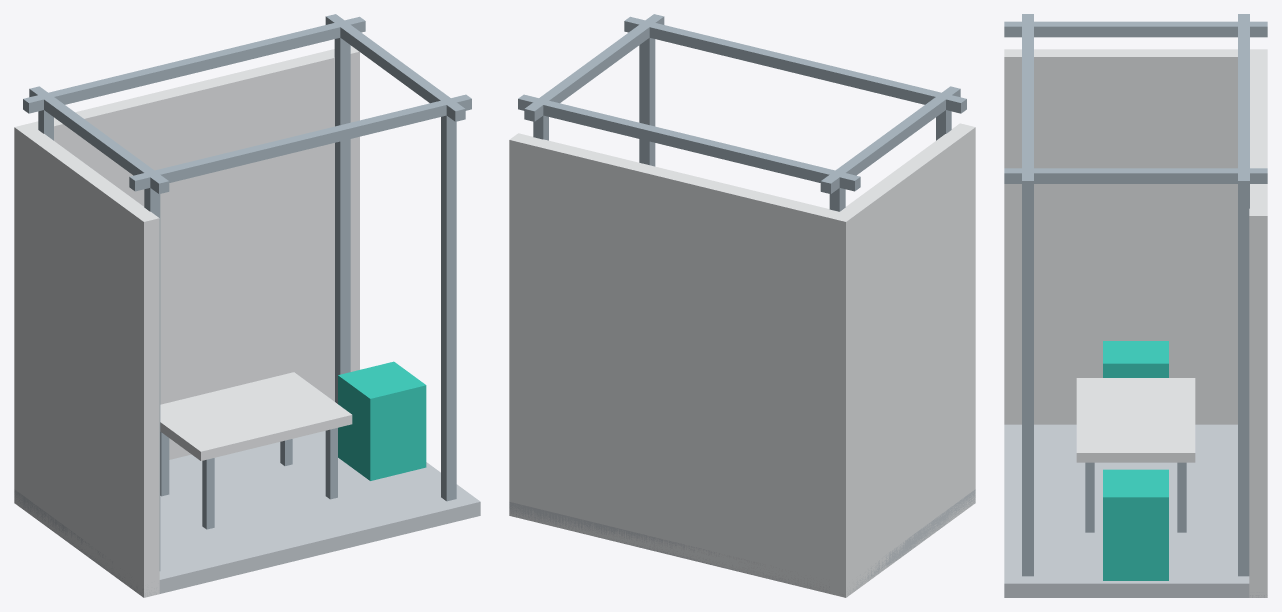
The picture shows the model from 3 angles, left to right: view 1: azimuth 30°, elevation 25°; view 2: azimuth 150°, elevation 25°; view 3: azimuth 270°, elevation 25°; orthographic projection.
Parts seen in each view (by area): view 1: Exhibition Booth Concept; view 2: Exhibition Booth Concept; view 3: Exhibition Booth Concept.
Boxes of the visible parts, box(x1,y1,x2,y2) form: Exhibition Booth Concept: box(14, 14, 480, 597); Exhibition Booth Concept: box(509, 14, 975, 597); Exhibition Booth Concept: box(1004, 14, 1267, 597).
Size of the model in its own units: 3 by 3.49 by 2.
